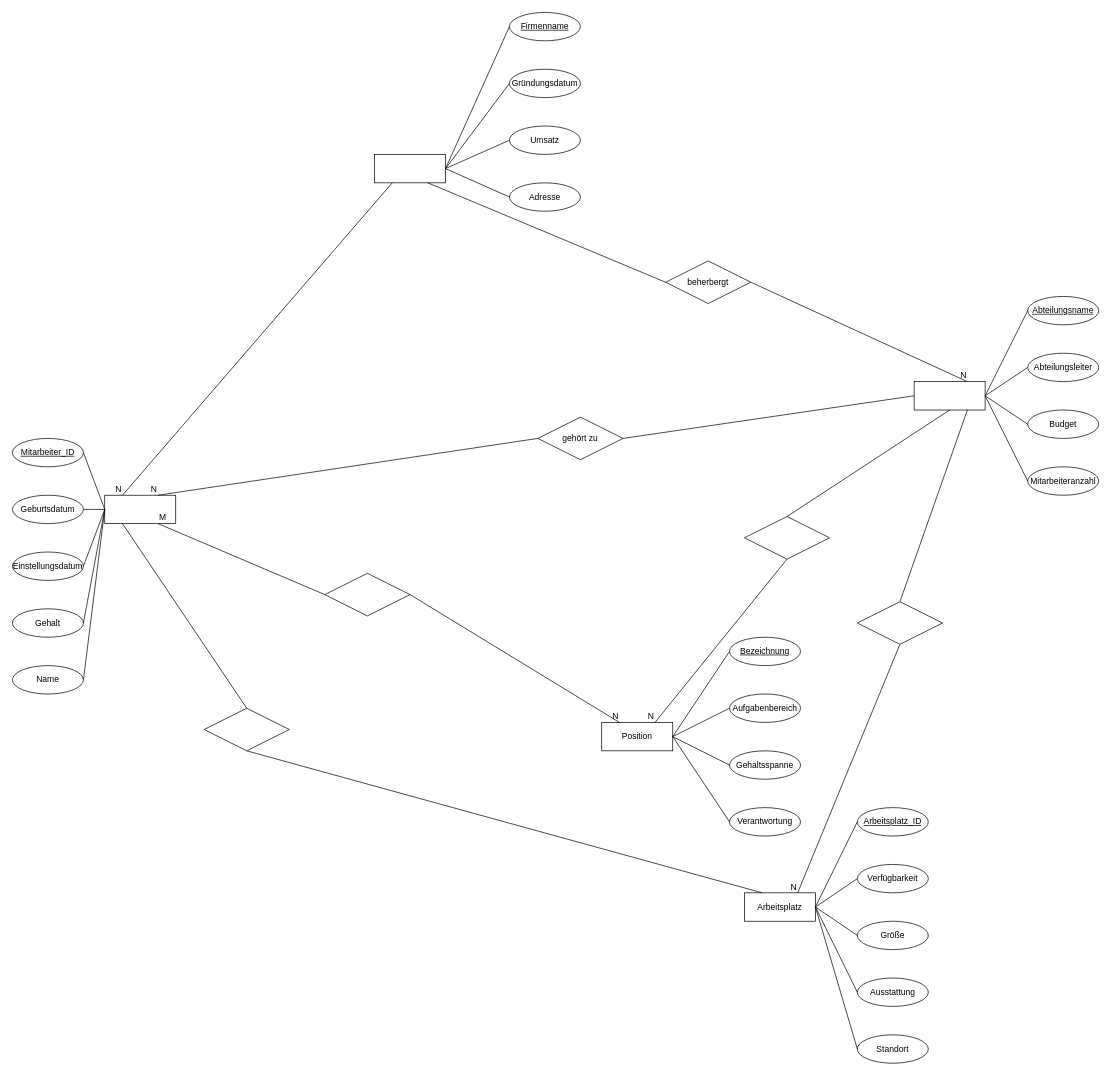
Image size: 1111x1076. Some labels were removed from this diagram. The box of each missing label's shape, as (x1, y1, x2, y2) in pixels:
Abteilung: (913, 381, 985, 410)
arbeitet an: (203, 708, 289, 751)
benötigt: (744, 516, 830, 559)
Firma: (374, 154, 446, 183)
hat: (324, 573, 410, 616)
Mitarbeiter: (104, 495, 176, 524)
umfasst: (857, 601, 943, 644)
